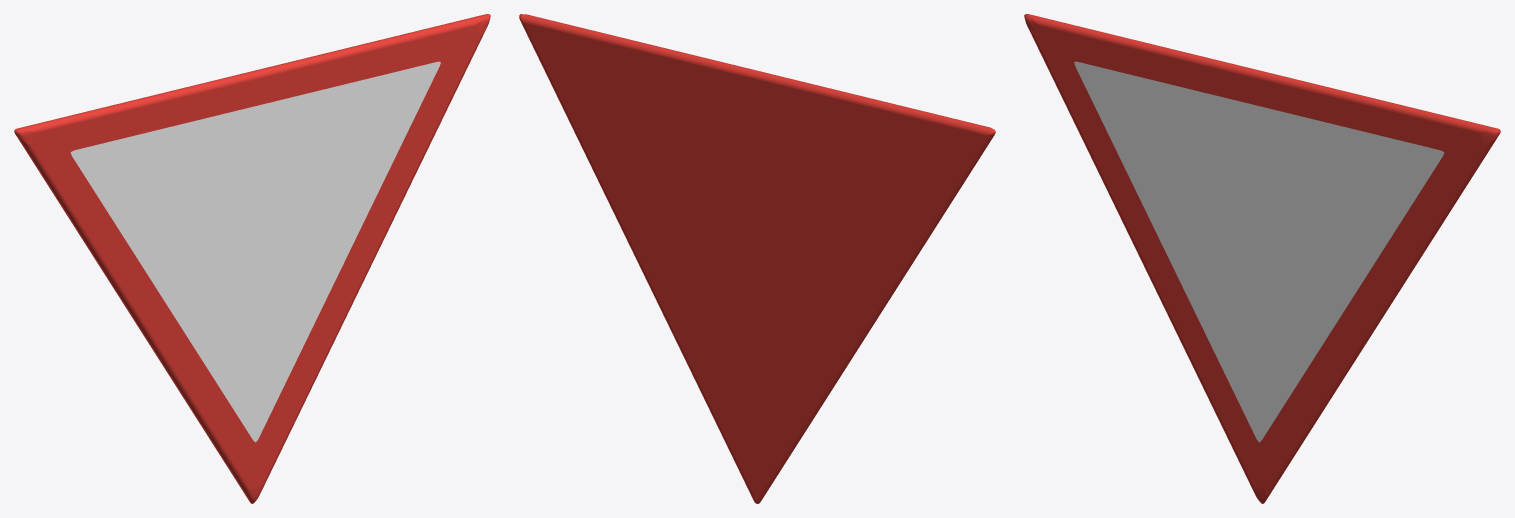
Rendered from yol ver.fbx.
The picture shows the model from 3 angles, left to right: view 1: azimuth 30°, elevation 25°; view 2: azimuth 150°, elevation 25°; view 3: azimuth 330°, elevation 25°; orthographic projection.
Visible parts, largest first — view 1: Circle; view 2: Circle; view 3: Circle.
Part boxes in pixels (x1,y1,x2,y2): Circle: [14, 14, 490, 503]; Circle: [519, 14, 995, 503]; Circle: [1024, 14, 1500, 503].
Size of the model in its own units: 399 by 346 by 9.
